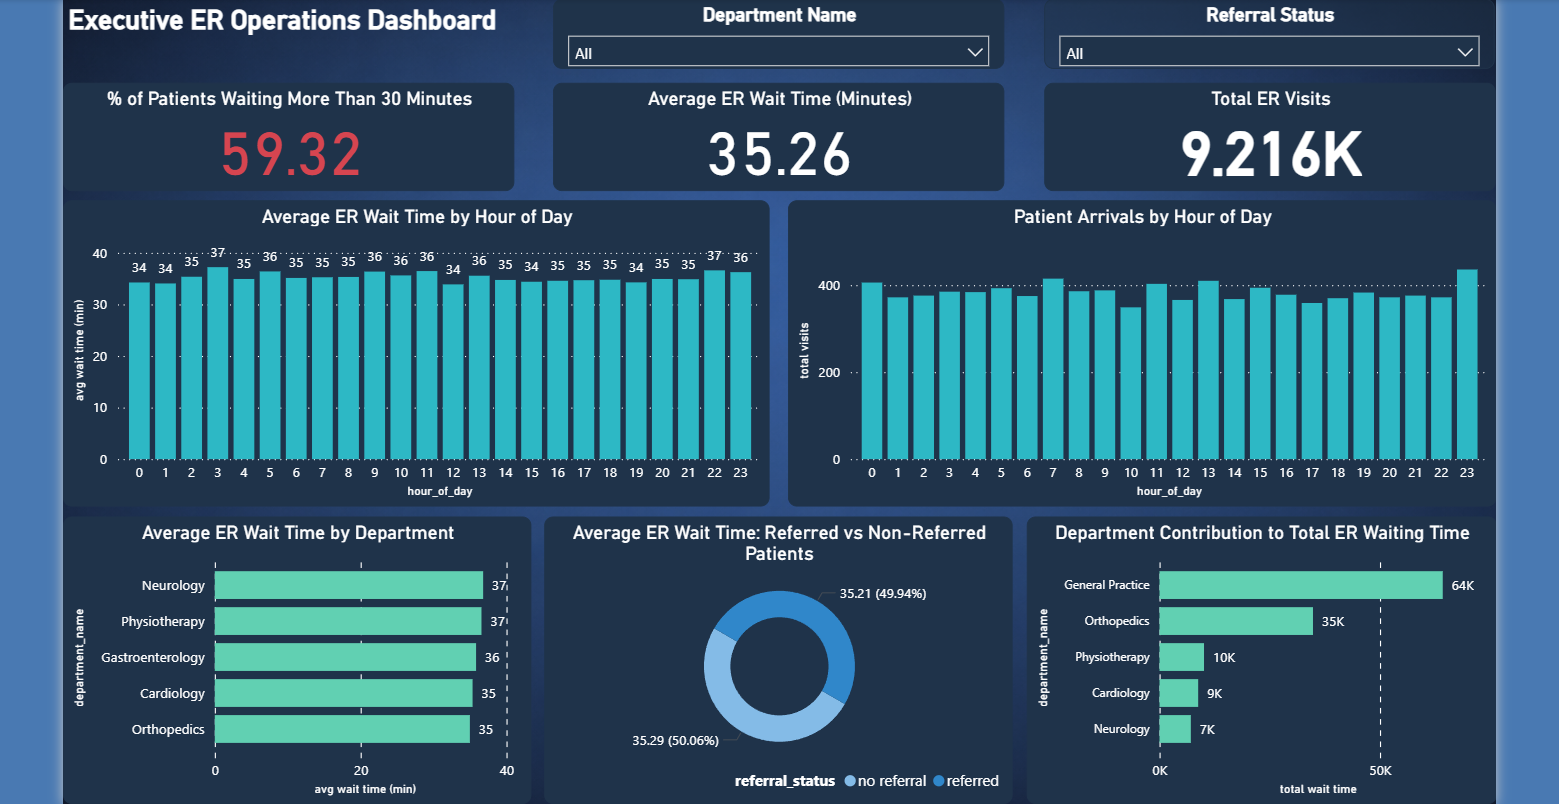

Layout of this report page (visuals, bound fields, positions):
{"tool":"powerbi","page":{"name":"Operational Insights for Staffing & Patient Flow Optimization","canvas":[1280,720],"ordinal":0},"visuals":[{"type":"cardVisual","title":"% of Patients Waiting More Than 30 Minutes","fields":{"Data":["visits.pct waits over 30 min"]},"box":[0,74.4,403.5,96.5],"z":0},{"type":"textbox","box":[0,0,488.7,62.4],"z":1000},{"type":"clusteredColumnChart","title":"Average ER Wait Time by Hour of Day","fields":{"Y":["visits.avg wait time (min)"],"Category":["visits.hour_of_day"]},"box":[0,180.2,631.4,273.3],"z":2000},{"type":"clusteredColumnChart","title":"Patient Arrivals by Hour of Day","fields":{"Category":["visits.hour_of_day"],"Y":["visits.total visits"]},"box":[647.7,180.2,632.6,273.3],"z":3000},{"type":"clusteredBarChart","title":"Average ER Wait Time by Department","fields":{"Category":["departments.department_name"],"Y":["visits.avg wait time (min)"]},"box":[0,462.8,418.6,257],"z":4000},{"type":"barChart","title":"Department Contribution to Total ER Waiting Time","fields":{"Category":["departments.department_name"],"Y":["visits.total wait time"]},"box":[860.5,462.8,419.8,257],"z":5000},{"type":"donutChart","title":"Average ER Wait Time: Referred vs Non-Referred Patients","fields":{"Category":["visits.referral_status"],"Y":["visits.avg wait time (min)"]},"box":[430.2,462.8,418.6,257],"z":6000},{"type":"slicer","title":"Department Name","fields":{"Values":["departments.department_name"]},"box":[437.2,0,403.5,62.8],"z":7000},{"type":"slicer","title":"Referral Status","fields":{"Values":["visits.referral_status"]},"box":[876.7,0,402.3,62.8],"z":8000},{"type":"cardVisual","title":"Average ER Wait Time (Minutes)","fields":{"Data":["visits.avg wait time (min)"]},"box":[437.2,74.4,403.5,96.5],"z":9000},{"type":"cardVisual","title":"Total ER Visits","fields":{"Data":["Count(visits.visit_id)"]},"box":[876.7,74.4,403.5,96.5],"z":10000}]}

Visuals, with their boxes on the page's 1280x720 design canvas (x1, y1, x2, y2). These are canvas units, not pixel positions in the 1559x804 screenshot, which may show the page scaled, cropped or inside an application window:
"% of Patients Waiting More Than 30 Minutes" cardVisual: rect(0, 74, 404, 171)
textbox: rect(0, 0, 489, 62)
"Average ER Wait Time by Hour of Day" clusteredColumnChart: rect(0, 180, 631, 454)
"Patient Arrivals by Hour of Day" clusteredColumnChart: rect(648, 180, 1280, 454)
"Average ER Wait Time by Department" clusteredBarChart: rect(0, 463, 419, 720)
"Department Contribution to Total ER Waiting Time" barChart: rect(860, 463, 1280, 720)
"Average ER Wait Time: Referred vs Non-Referred Patients" donutChart: rect(430, 463, 849, 720)
"Department Name" slicer: rect(437, 0, 841, 63)
"Referral Status" slicer: rect(877, 0, 1279, 63)
"Average ER Wait Time (Minutes)" cardVisual: rect(437, 74, 841, 171)
"Total ER Visits" cardVisual: rect(877, 74, 1280, 171)
